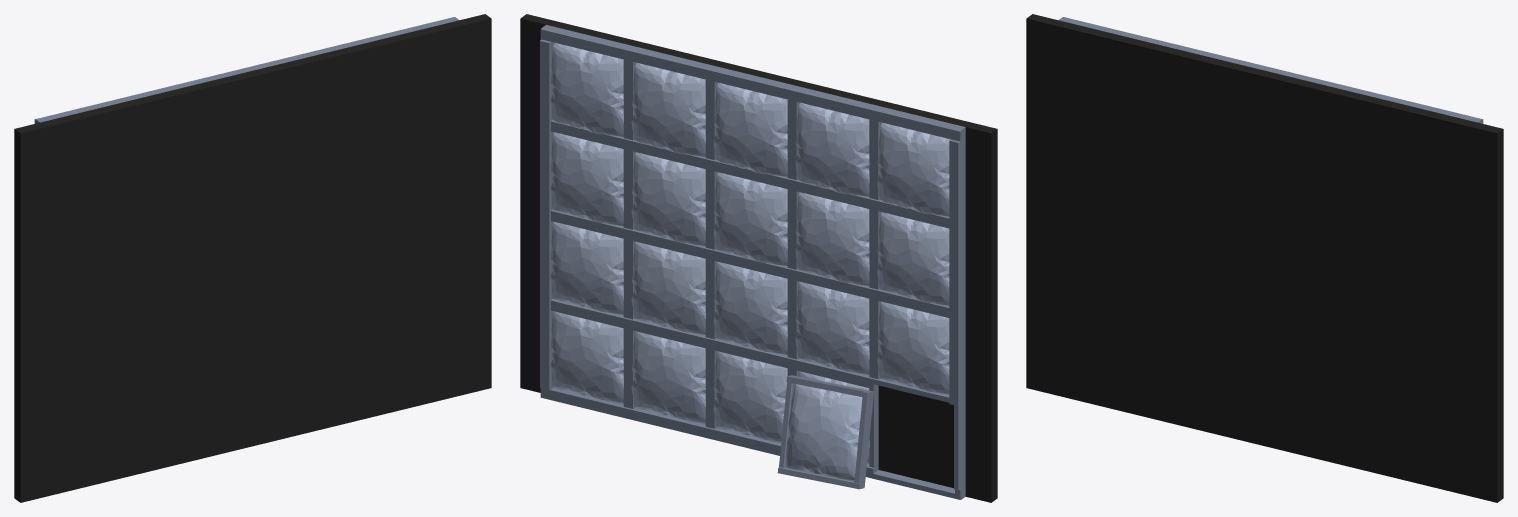
Rendered from pillow-wall-v3.fbx.
The picture shows the model from 3 angles, left to right: view 1: azimuth 30°, elevation 25°; view 2: azimuth 150°, elevation 25°; view 3: azimuth 330°, elevation 25°; orthographic projection.
Parts seen in each view (by area): view 1: pillow-wall-frame-back-crack, pillow-wall-frame-crack; view 2: pillow-wall-frame-crack, pillow-wall-frame-back-crack, pillow-wall-frame-crack-piece; view 3: pillow-wall-frame-back-crack, pillow-wall-frame-crack.
Boxes of the visible parts, box(x1,y1,x2,y2) form: pillow-wall-frame-back-crack: box(14, 14, 491, 502); pillow-wall-frame-crack: box(34, 17, 459, 123); pillow-wall-frame-crack: box(540, 25, 965, 499); pillow-wall-frame-back-crack: box(520, 14, 997, 502); pillow-wall-frame-crack-piece: box(777, 375, 873, 489); pillow-wall-frame-back-crack: box(1026, 14, 1503, 502); pillow-wall-frame-crack: box(1058, 17, 1483, 123).
Bounding box in the file's own units: 4.4 × 0.5255 × 3.3.
1 material, 1 textured.
